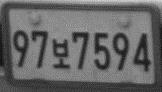4: (132, 32, 151, 72)
5: (93, 31, 110, 70)
7: (71, 31, 89, 70), (31, 29, 48, 68)
9: (111, 31, 129, 71), (11, 29, 29, 67)
보: (51, 37, 70, 69)
